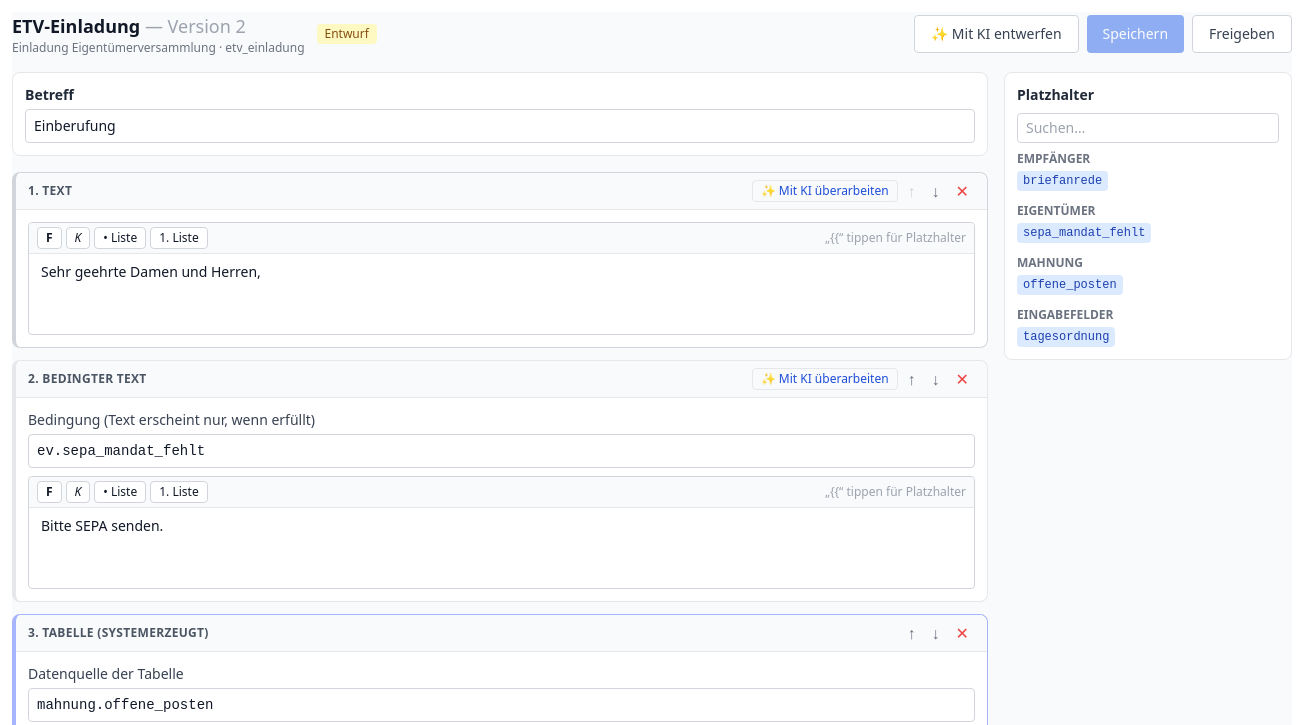
Test case: VorlagenEditor — Platzhalter › weist ohne Fokus auf ein Textfeld darauf hin
Step 1. Click the button "briefanrede" → {"x": 1063, "y": 181}, box [1017,171,1108,191]
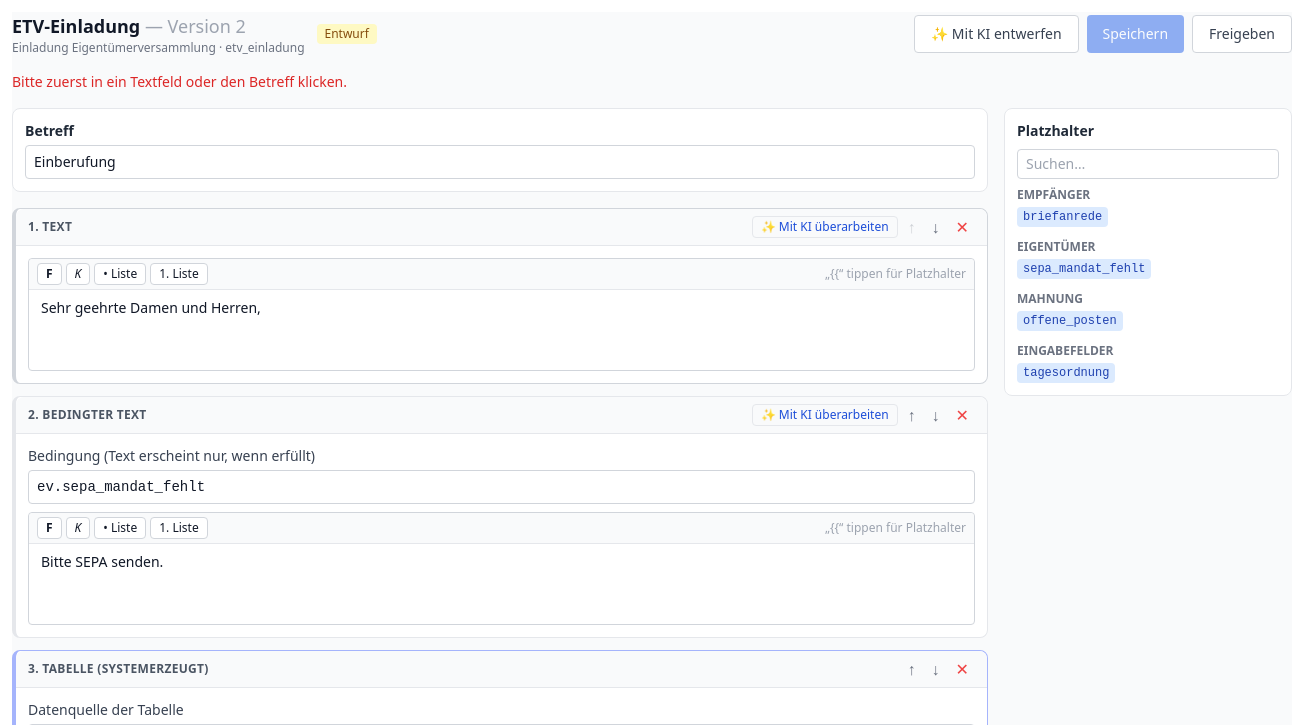
Check: the message shows "zuerst in ein Textfeld", box [12,72,347,91]
